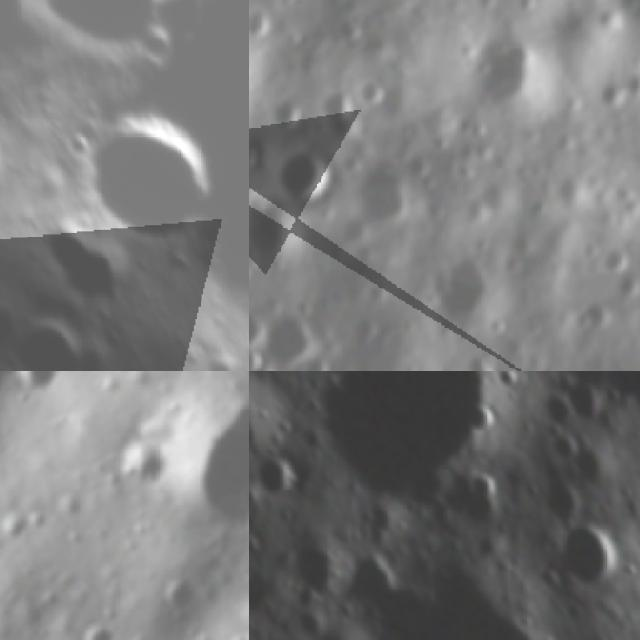crater: (262, 371, 549, 550), (71, 95, 235, 257), (364, 528, 599, 640), (35, 0, 206, 77), (171, 388, 249, 536), (264, 512, 370, 618), (536, 498, 640, 604), (38, 207, 139, 313), (249, 371, 314, 494), (0, 301, 105, 371), (471, 22, 546, 117), (564, 371, 640, 437), (558, 426, 628, 495), (431, 250, 492, 324), (356, 160, 418, 232), (275, 146, 333, 210), (264, 304, 321, 367), (527, 379, 585, 439), (249, 203, 312, 258), (249, 442, 304, 505), (154, 573, 199, 626), (462, 464, 508, 509), (316, 93, 359, 139), (124, 448, 166, 491), (16, 371, 59, 412), (249, 4, 281, 44), (334, 15, 372, 48), (348, 312, 380, 350), (355, 78, 388, 113), (275, 98, 302, 134), (488, 371, 526, 396), (568, 307, 604, 333), (594, 78, 624, 108), (599, 245, 632, 271), (468, 344, 499, 371), (609, 273, 640, 299), (79, 622, 120, 640), (249, 140, 265, 180), (249, 345, 270, 371), (580, 240, 606, 259), (249, 309, 260, 349), (624, 68, 640, 94), (359, 242, 376, 266)
